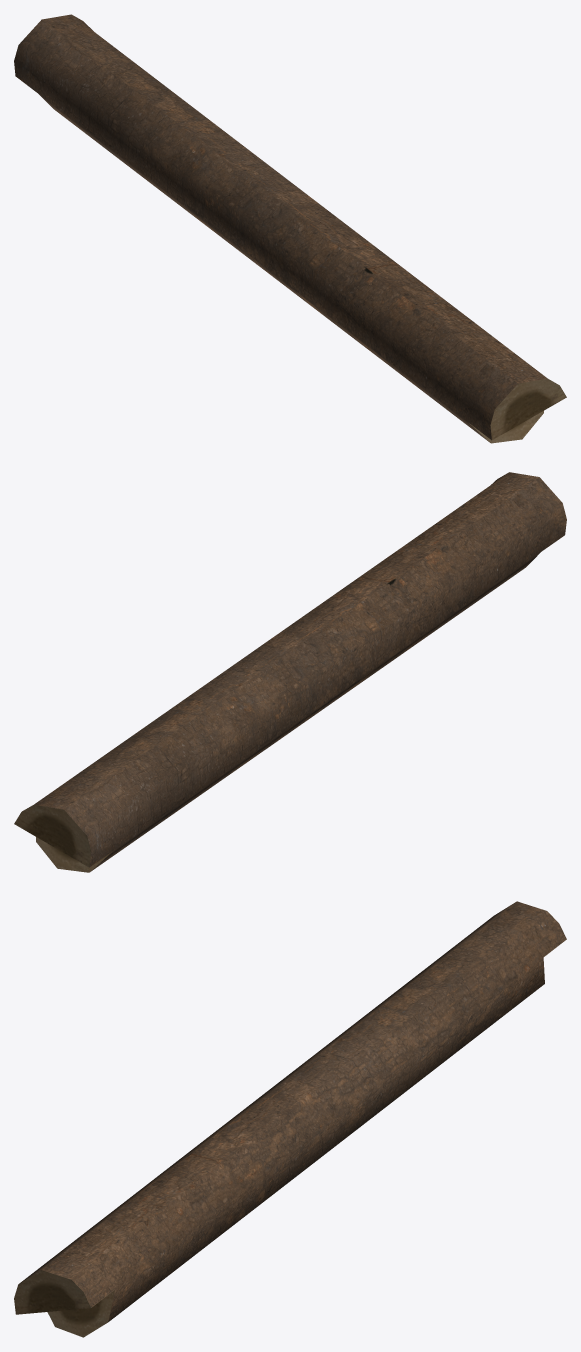
3 views of the same model, one above another, from view 1: azimuth 30°, elevation 25°; view 2: azimuth 150°, elevation 25°; view 3: azimuth 330°, elevation 25° (orthographic).
Parts seen in each view (by area): view 1: TS_Lo_up; view 2: TS_Lo_up; view 3: TS_Lo_up.
Boxes of the visible parts, bbox=[...] form: TS_Lo_up: bbox=[14, 14, 566, 443]; TS_Lo_up: bbox=[14, 472, 566, 872]; TS_Lo_up: bbox=[14, 901, 566, 1337].
Bounding box in the file's own units: 0.2064 × 0.2322 × 2.14.
Materials: 1 (1 with a texture image).
